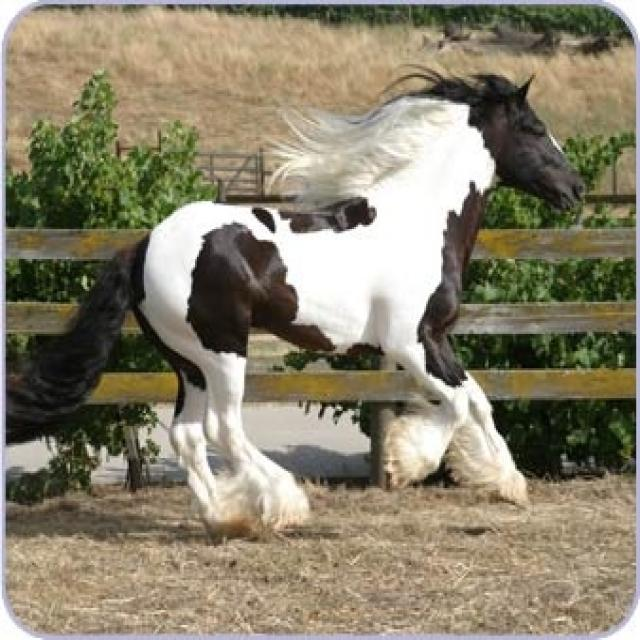horse: (4, 60, 581, 535)
